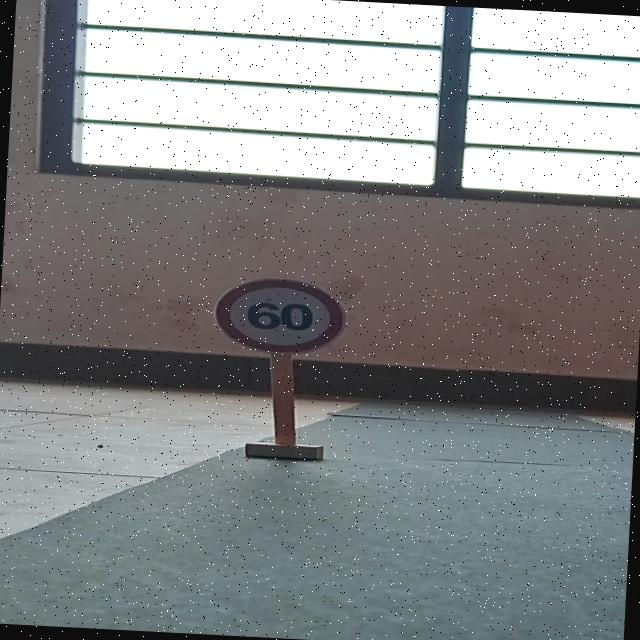Speed60: (214, 274, 346, 359)
